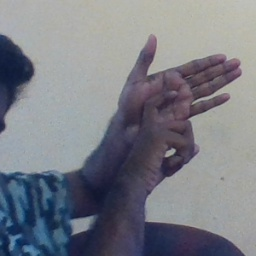R: (105, 31, 245, 174)
